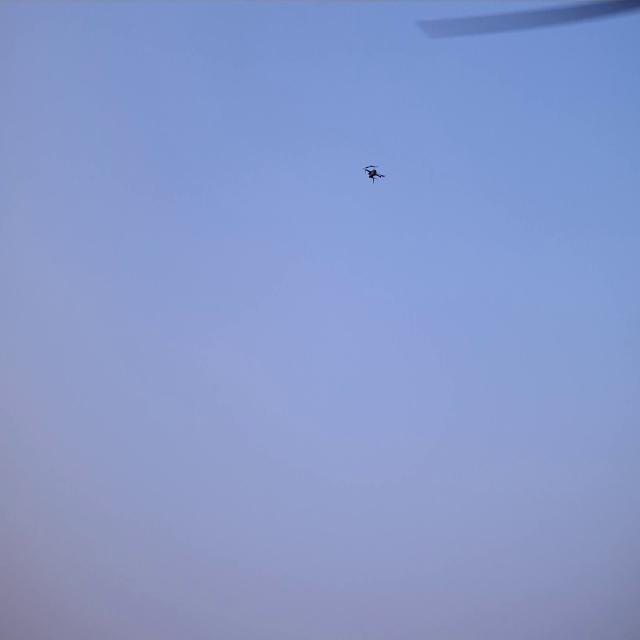UAV: (365, 166, 383, 182)
